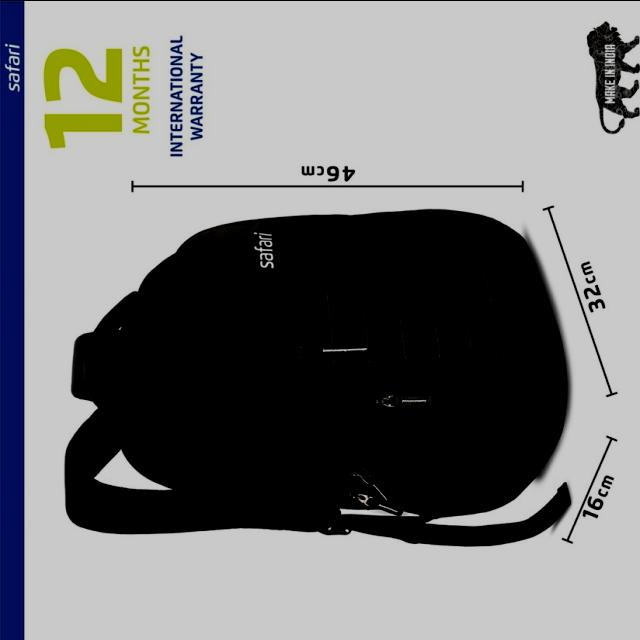backpack: (64, 209, 571, 547)
